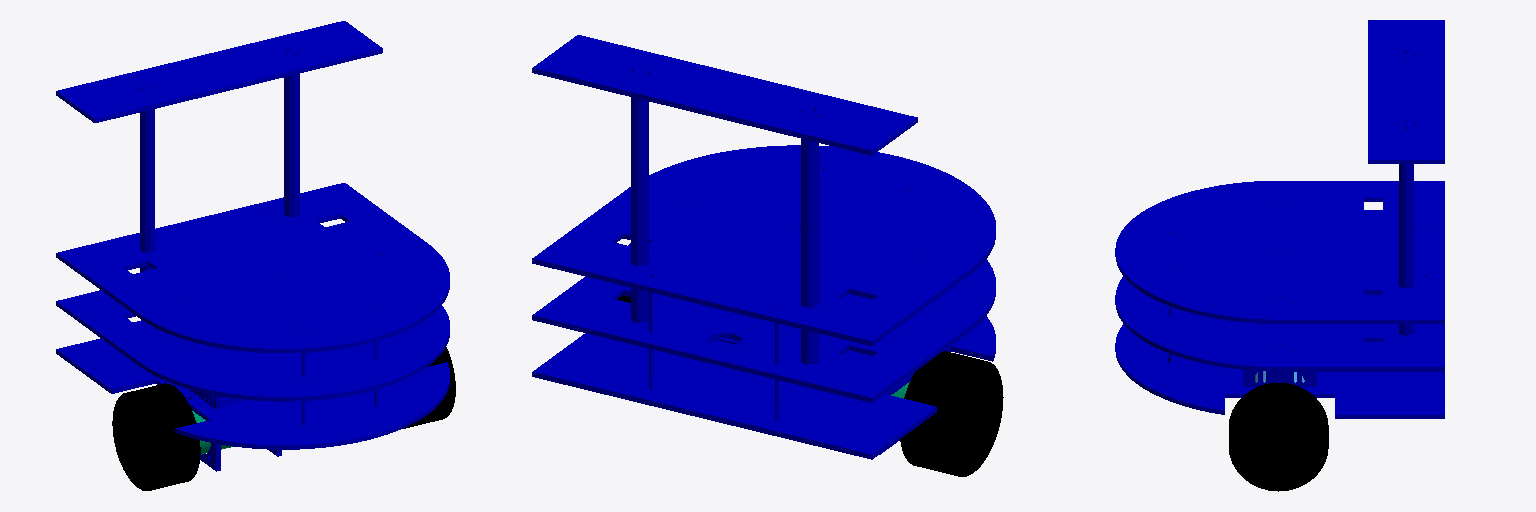
URDF robot description (pepper):
<?xml version="1.0"?>

<robot name="pepper">

  <material name="blue">
    <color rgba="0 0 0.8 1"/>
  </material>
  
  <material name="black">
    <color rgba="0 0 0 1"/>
  </material>
  
  <material name="white">
    <color rgba="1 1 1 1"/>
  </material>

  <link name="base_link">
    <visual>
      <origin rpy="1.5707963 0 3.14159265" xyz="0 -0.075 0"/>
      <geometry>
        <mesh filename="package://urdf_tut/meshes/peppercad_binary.stl"  scale="0.001 0.001 0.001"/>
      </geometry>
      <material name="blue"/>
    </visual>
  </link>
  
  <link name="right_motor">
    <visual>
      <geometry>
        <cylinder length="0.105" radius="0.0285"/>
      </geometry>
      <origin rpy="0 1.57075 0" xyz="0 0 0"/>
    </visual>
  </link>
  <joint name="right_motor_joint" type="fixed">
    <parent link="base_link"/>
    <child link="right_motor"/>
    <origin rpy="0 0 0" xyz="0.065 0 -0.03"/>
  </joint>

  <link name="left_motor">
    <visual>
      <geometry>
        <cylinder length="0.105" radius="0.0285"/>
      </geometry>
      <origin rpy="0 -1.57075 0" xyz="0 0 0"/>
    </visual>
  </link>
  <joint name="left_motor_joint" type="fixed">
    <parent link="base_link"/>
    <child link="left_motor"/>
    <origin rpy="0 0 0" xyz="-0.065 0 -0.03"/>
  </joint>

  <link name="left_motor_shaft">
    <visual>
      <geometry>
        <cylinder length="0.03" radius="0.003"/>
      </geometry>
      <material name= "white"/>
      <origin rpy="0 1.57075 0" xyz="0 0 0"/>
    </visual>
  </link>
  <joint name="left_motor_shaft_joint" type="fixed">
    <parent link="left_motor"/>
    <child link="left_motor_shaft"/>
    <origin rpy="0 0 0" xyz="-0.055 0 0"/>
  </joint>  

  <link name="right_motor_shaft">
    <visual>
      <geometry>
        <cylinder length="0.03" radius="0.003"/>
      </geometry>
      <material name= "white"/>
      <origin rpy="0 1.57075 0" xyz="0 0 0"/>
    </visual>
  </link>
  <joint name="right_motor_shaft_joint" type="fixed">
    <parent link="right_motor"/>
    <child link="right_motor_shaft"/>
    <origin rpy="0 0 0" xyz="0.055 0 0"/>
  </joint>

  <link name="left_wheel">
    <visual>
      <geometry>
        <cylinder length="0.045" radius="0.0525"/>
      </geometry>
      <material name= "black"/>
      <origin rpy="0 1.57075 0" xyz="0 0 0"/>
    </visual>
  </link>
  <joint name="left_wheel_link" type="continuous">
    <parent link="left_motor_shaft"/>
    <child link="left_wheel"/>
    <origin rpy="0 0 0" xyz="-0.0325 0 0"/>
  </joint>

  <link name="right_wheel">
    <visual>
      <geometry>
        <cylinder length="0.045" radius="0.0525"/>
      </geometry>
      <material name= "black"/>
      <origin rpy="0 1.57075 0" xyz="0 0 0"/>
    </visual>
  </link>
  <joint name="right_wheel_link" type="continuous">
    <parent link="right_motor_shaft"/>
    <child link="right_wheel"/>
    <origin rpy="0 0 0" xyz="0.0325 0 0"/>
  </joint>

  <link name="camera_link">
    <visual>
      <origin rpy="0 0 0" xyz="0 0 0"/>
      <geometry>
        <mesh filename="package://urdf_tut/meshes/kinect.dae"  scale="0.001 0.001 0.001"/>
      </geometry>
      <!-- <material name="blue"/> -->
    </visual>
  </link>
    <joint name="kinect_link" type="fixed">
    <parent link="base_link"/>
    <child link="camera_link"/>
    <origin rpy="0 0 1.57075" xyz="0 0.18 0.355"/>
  </joint>

</robot>

--- Render facts (derived) ---
3 views of the same robot in one strip: view 1: azimuth 30°, elevation 25°; view 2: azimuth 150°, elevation 25°; view 3: azimuth 270°, elevation 25° (orthographic).
Robot: pepper — 8 links, 7 joints (2 continuous, 5 fixed); root link base_link; default pose: all joints at 0.
Links seen in each view (by area): view 1: base_link, left_wheel, right_wheel; view 2: base_link, left_wheel; view 3: base_link, right_wheel.
Boxes of the visible links, bbox=[...] form: base_link: bbox=[56, 21, 449, 471]; left_wheel: bbox=[112, 383, 200, 490]; right_wheel: bbox=[403, 347, 455, 428]; base_link: bbox=[532, 35, 995, 459]; left_wheel: bbox=[900, 351, 1003, 476]; base_link: bbox=[1115, 20, 1444, 418]; right_wheel: bbox=[1229, 383, 1328, 491].
Size in the robot's own frame: 0.35 by 0.345 by 0.3825 metres.
Meshes: 2 distinct files referenced, 1 mesh visuals loaded (1 binary STL); not drawn: 1 (reference not matched to a file when rendering).